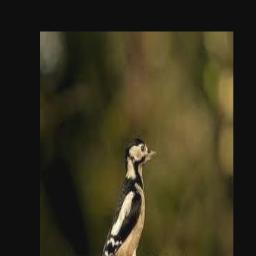Woodpecker: (102, 139, 158, 256)
